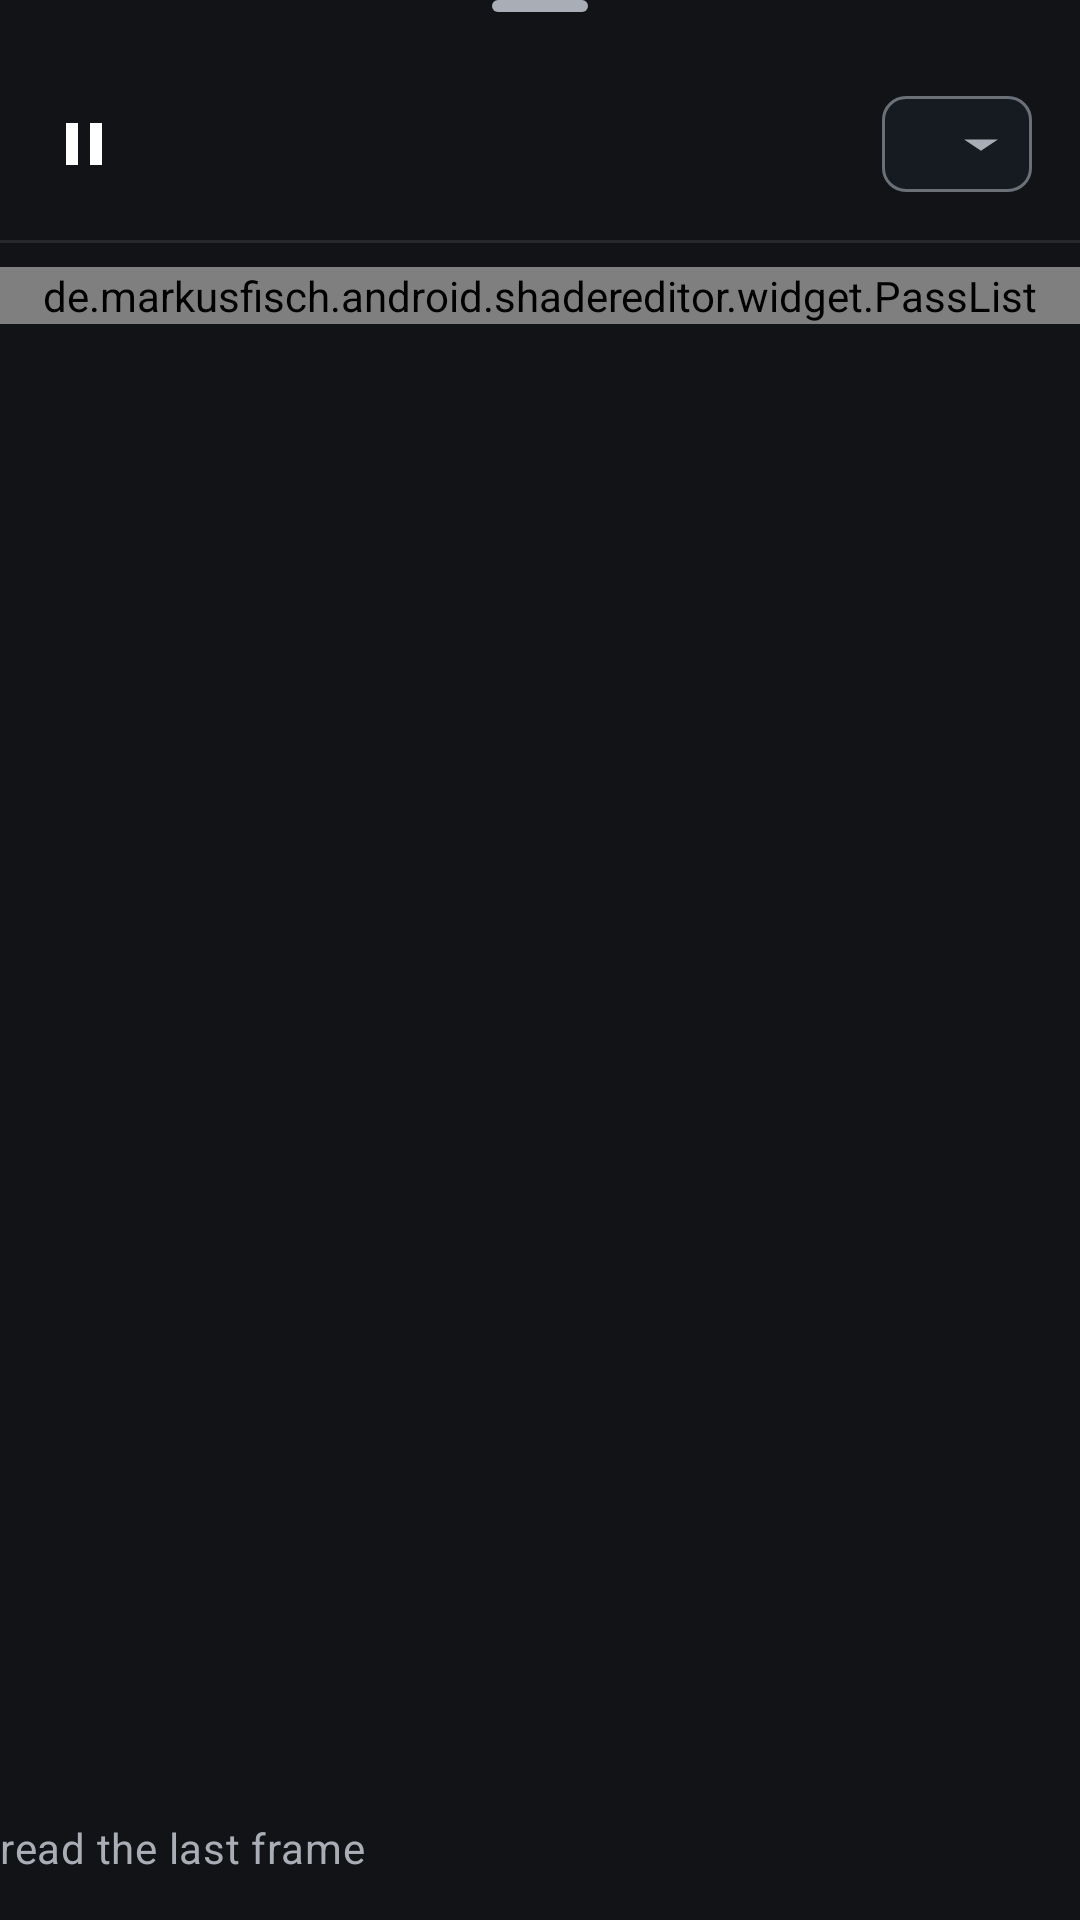

Where icons sit on this 1080*1920 app screen, as (x1, y1, x2, y2):
Pause: (66, 123, 102, 165)
